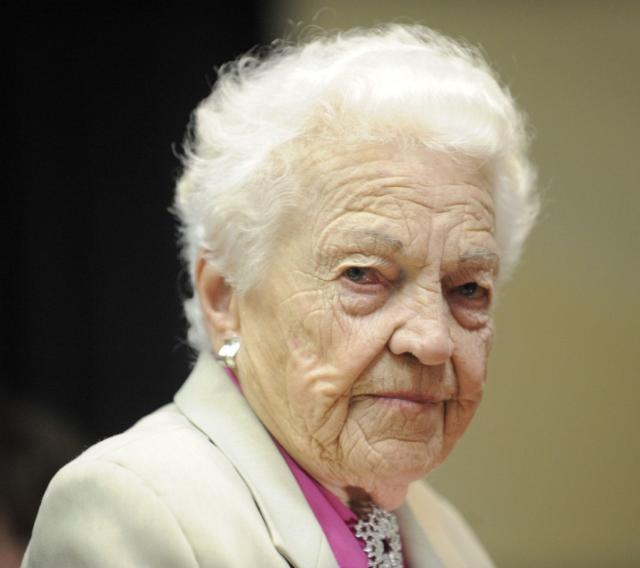chin: (368, 424, 428, 456), (304, 430, 328, 470)
crows_feet: (308, 251, 334, 299)
forehead: (325, 171, 407, 222), (456, 197, 496, 237)
frown_line: (422, 236, 446, 276)
gummy_smile: (352, 330, 384, 388), (443, 351, 467, 394)
sad_smile: (334, 388, 356, 448), (436, 401, 452, 444)
smoker_lines: (410, 360, 428, 389)
